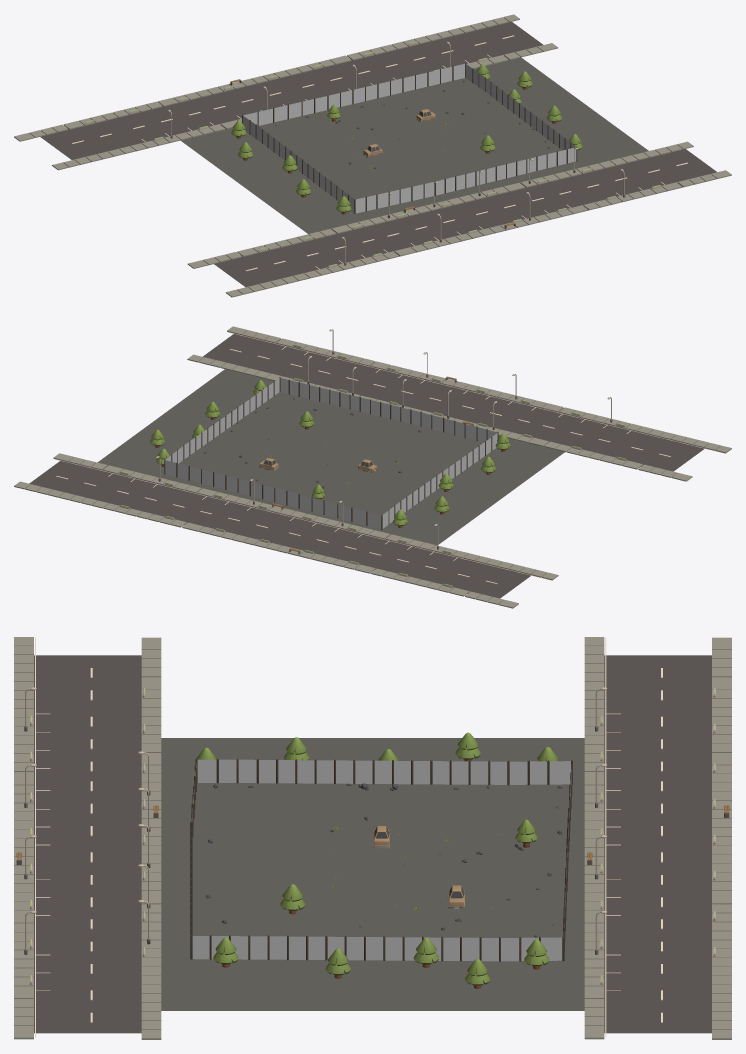
File: SM_Env_1.fbx
3 views of the same model, one above another, from view 1: azimuth 30°, elevation 25°; view 2: azimuth 150°, elevation 25°; view 3: azimuth 270°, elevation 25° (orthographic). The views are drawn at different scales.
Parts seen in each view (by area): view 1: Ground, TRAFFIC_FULL.005, TRAFFIC_FULL.003, Fences; view 2: Ground, TRAFFIC_FULL.003, TRAFFIC_FULL.005, Fences; view 3: Ground, TRAFFIC_FULL.003, TRAFFIC_FULL.005, Fences.
Part boxes in pixels (x1=…): Ground: x1=180, y1=57, x2=648, y2=233; TRAFFIC_FULL.005: x1=187, y1=141, x2=731, y2=297; TRAFFIC_FULL.003: x1=14, y1=14, x2=558, y2=170; Fences: x1=242, y1=63, x2=577, y2=213; Ground: x1=97, y1=369, x2=564, y2=545; TRAFFIC_FULL.003: x1=14, y1=453, x2=558, y2=608; TRAFFIC_FULL.005: x1=187, y1=326, x2=731, y2=481; Fences: x1=164, y1=377, x2=498, y2=529; Ground: x1=161, y1=738, x2=584, y2=1010; TRAFFIC_FULL.003: x1=584, y1=637, x2=731, y2=1039; TRAFFIC_FULL.005: x1=14, y1=637, x2=161, y2=1039; Fences: x1=190, y1=758, x2=572, y2=961.
Size of the model in its own units: 12562 by 707 by 9487.
